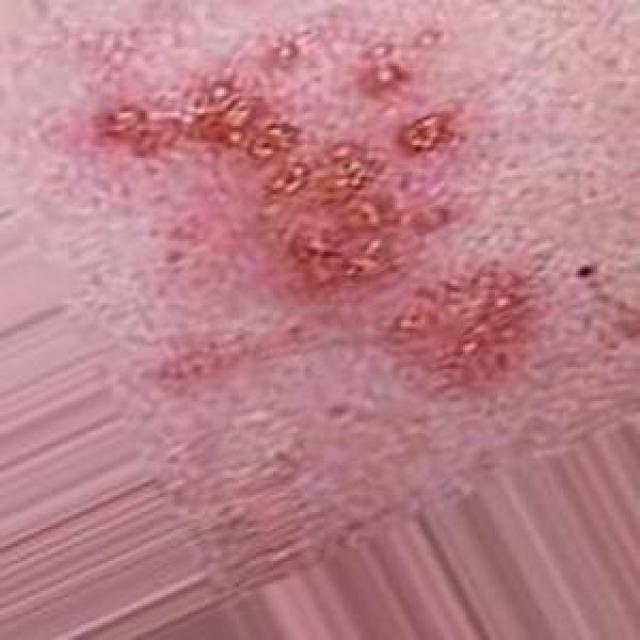Shingles: (112, 66, 442, 293), (394, 266, 524, 378)
